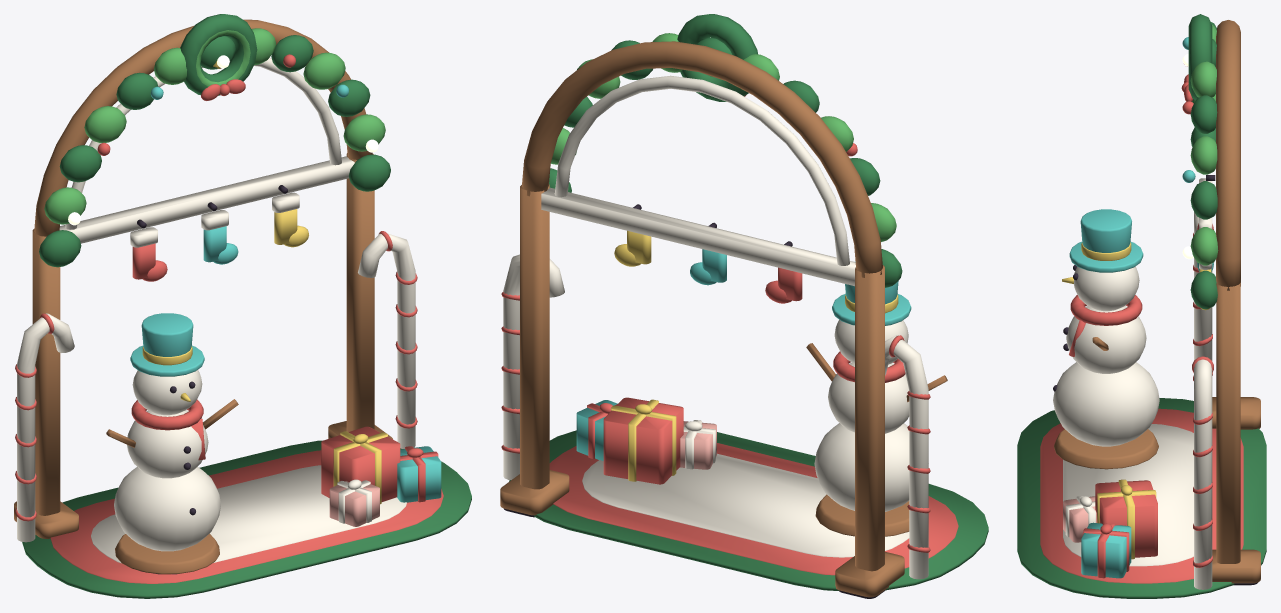
The model's file is holiday.glb.
The picture shows the model from 3 angles, left to right: view 1: azimuth 30°, elevation 25°; view 2: azimuth 150°, elevation 25°; view 3: azimuth 270°, elevation 25°; orthographic projection. The views are drawn at different scales.
Parts seen in each view (by area): view 1: ThemeHoliday_CreamSnowmanAndCuffs, ThemeHoliday_WoodArchAndPlinth, ThemeHoliday_DeepGreenEvergreen, ThemeHoliday_CoralScarfAndGifts, ThemeHoliday_LeafGreenWreath, ThemeHoliday_TurquoiseHatAndGifts, ThemeHoliday_ButterStockingAndRibbon, ThemeHoliday_PeachGiftBox; view 2: ThemeHoliday_CreamSnowmanAndCuffs, ThemeHoliday_WoodArchAndPlinth, ThemeHoliday_CoralScarfAndGifts, ThemeHoliday_DeepGreenEvergreen, ThemeHoliday_TurquoiseHatAndGifts, ThemeHoliday_ButterStockingAndRibbon, ThemeHoliday_LeafGreenWreath, ThemeHoliday_PeachGiftBox; view 3: ThemeHoliday_CreamSnowmanAndCuffs, ThemeHoliday_WoodArchAndPlinth, ThemeHoliday_DeepGreenEvergreen, ThemeHoliday_CoralScarfAndGifts, ThemeHoliday_TurquoiseHatAndGifts, ThemeHoliday_LeafGreenWreath, ThemeHoliday_ButterStockingAndRibbon, ThemeHoliday_PeachGiftBox.
Boxes of the visible parts, left/top/right/bottom form: ThemeHoliday_CreamSnowmanAndCuffs: left=17, top=57, right=415, bottom=563; ThemeHoliday_WoodArchAndPlinth: left=14, top=19, right=392, bottom=574; ThemeHoliday_DeepGreenEvergreen: left=22, top=14, right=471, bottom=598; ThemeHoliday_CoralScarfAndGifts: left=15, top=54, right=443, bottom=583; ThemeHoliday_LeafGreenWreath: left=44, top=28, right=385, bottom=224; ThemeHoliday_TurquoiseHatAndGifts: left=130, top=84, right=441, bottom=502; ThemeHoliday_ButterStockingAndRibbon: left=142, top=61, right=387, bottom=504; ThemeHoliday_PeachGiftBox: left=329, top=481, right=379, bottom=526; ThemeHoliday_CreamSnowmanAndCuffs: left=503, top=75, right=928, bottom=579; ThemeHoliday_WoodArchAndPlinth: left=500, top=41, right=947, bottom=597; ThemeHoliday_CoralScarfAndGifts: left=501, top=95, right=958, bottom=575; ThemeHoliday_DeepGreenEvergreen: left=509, top=14, right=988, bottom=590; ThemeHoliday_TurquoiseHatAndGifts: left=576, top=249, right=911, bottom=461; ThemeHoliday_ButterStockingAndRibbon: left=611, top=230, right=898, bottom=481; ThemeHoliday_LeafGreenWreath: left=551, top=33, right=896, bottom=241; ThemeHoliday_PeachGiftBox: left=680, top=421, right=716, bottom=469; ThemeHoliday_CreamSnowmanAndCuffs: left=1053, top=178, right=1212, bottom=589; ThemeHoliday_WoodArchAndPlinth: left=1054, top=20, right=1260, bottom=583; ThemeHoliday_DeepGreenEvergreen: left=1017, top=14, right=1266, bottom=598; ThemeHoliday_CoralScarfAndGifts: left=1040, top=64, right=1243, bottom=583; ThemeHoliday_TurquoiseHatAndGifts: left=1069, top=37, right=1213, bottom=578; ThemeHoliday_LeafGreenWreath: left=1190, top=25, right=1218, bottom=265; ThemeHoliday_ButterStockingAndRibbon: left=1062, top=242, right=1211, bottom=559; ThemeHoliday_PeachGiftBox: left=1063, top=496, right=1096, bottom=542.
Bounding box in the file's own units: 1.84 × 2.09 × 0.98.
